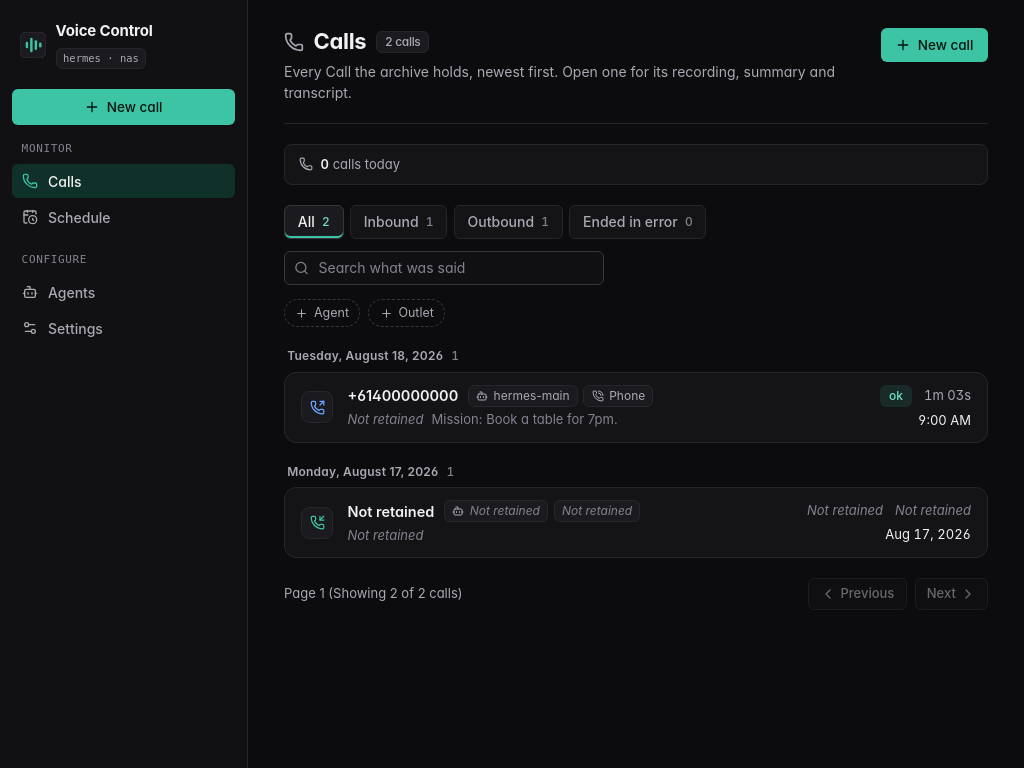
Calls screen metadata and filters › does not claim the history is empty when a filter matched nothing
Step 1. Click the button with test id "filter-agent" → (322, 313), box [284,299,360,327]
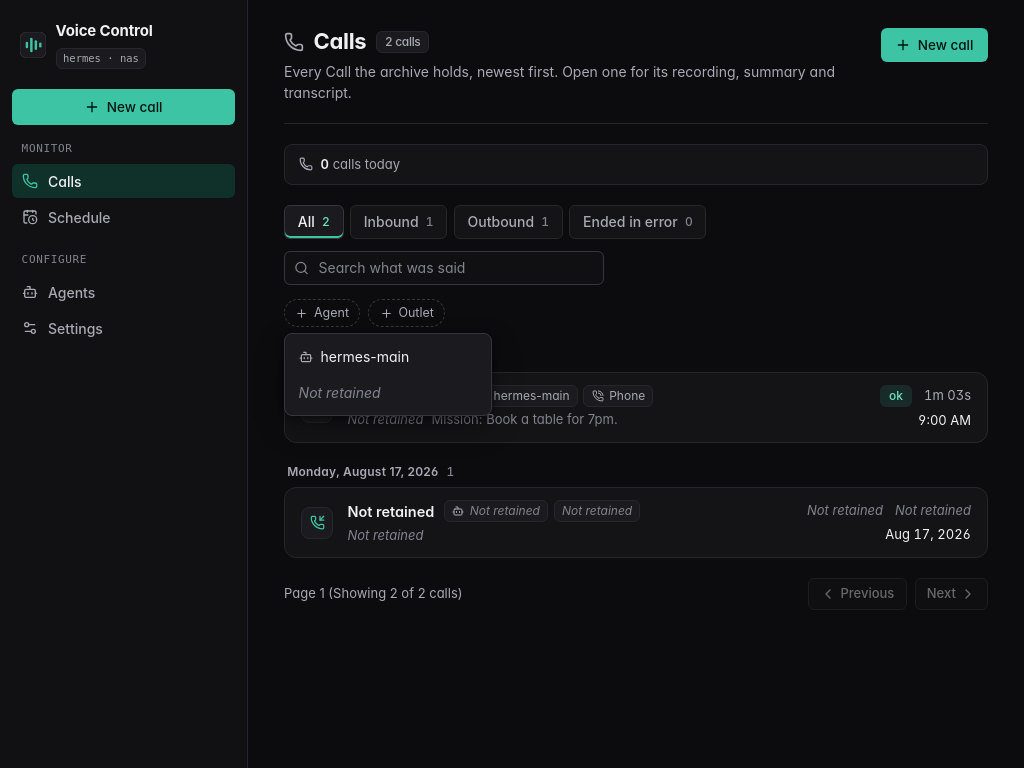
Step 2. Click the option with test id "filter-agent-option-hermes-main" → (388, 357), box [290,339,486,374]
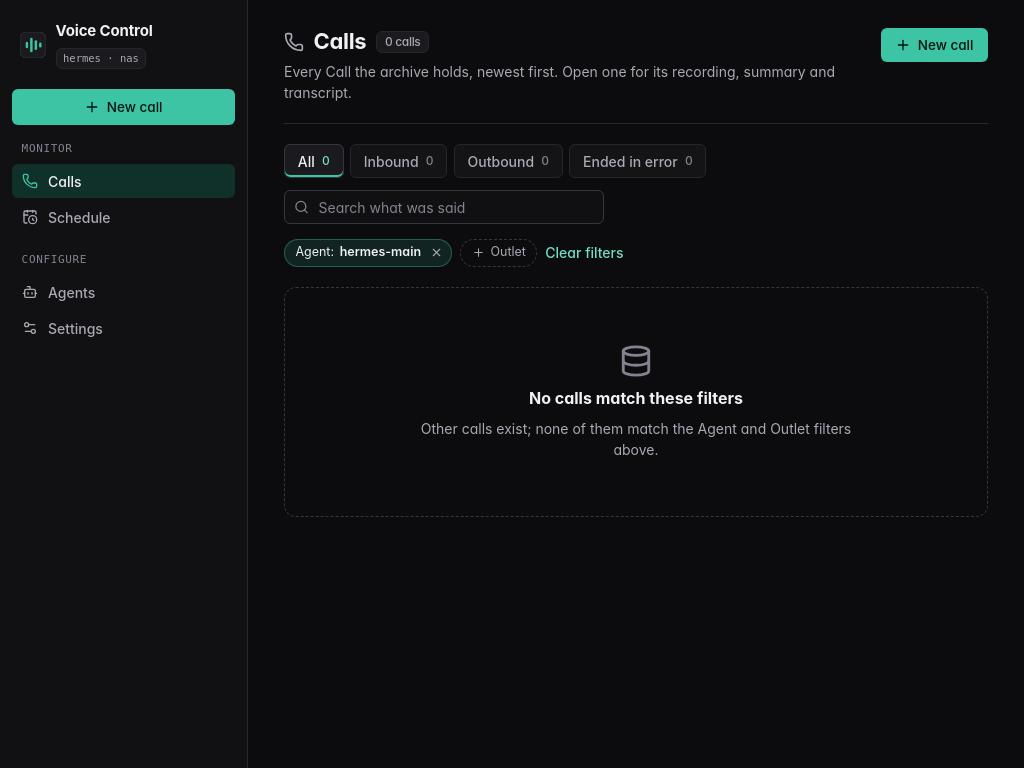
Expected: the text "No calls match these filters" is shown, [529,386,743,410]
